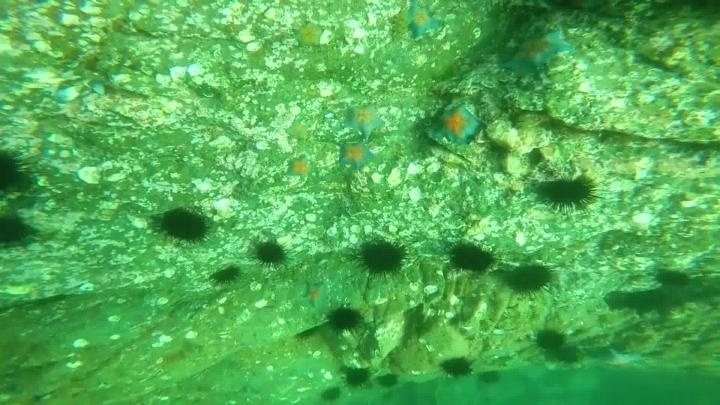echinus: (532, 172, 600, 213), (355, 236, 408, 279), (155, 205, 211, 245), (500, 260, 556, 298), (603, 285, 670, 316), (446, 239, 497, 275), (1, 146, 36, 196), (1, 208, 35, 250), (402, 303, 439, 340), (325, 303, 364, 335), (252, 237, 289, 268), (532, 326, 569, 357), (543, 339, 583, 366), (484, 134, 513, 166), (439, 354, 474, 380), (653, 266, 692, 289), (209, 262, 243, 287), (341, 364, 373, 390), (476, 368, 503, 387), (524, 146, 546, 169), (376, 370, 400, 391), (318, 384, 343, 404)
starfish: (499, 26, 575, 78), (429, 100, 485, 147), (401, 1, 445, 42), (343, 100, 386, 139), (336, 139, 376, 172), (598, 347, 649, 370), (291, 20, 328, 50), (300, 278, 328, 310), (284, 154, 315, 181), (284, 118, 311, 142)
